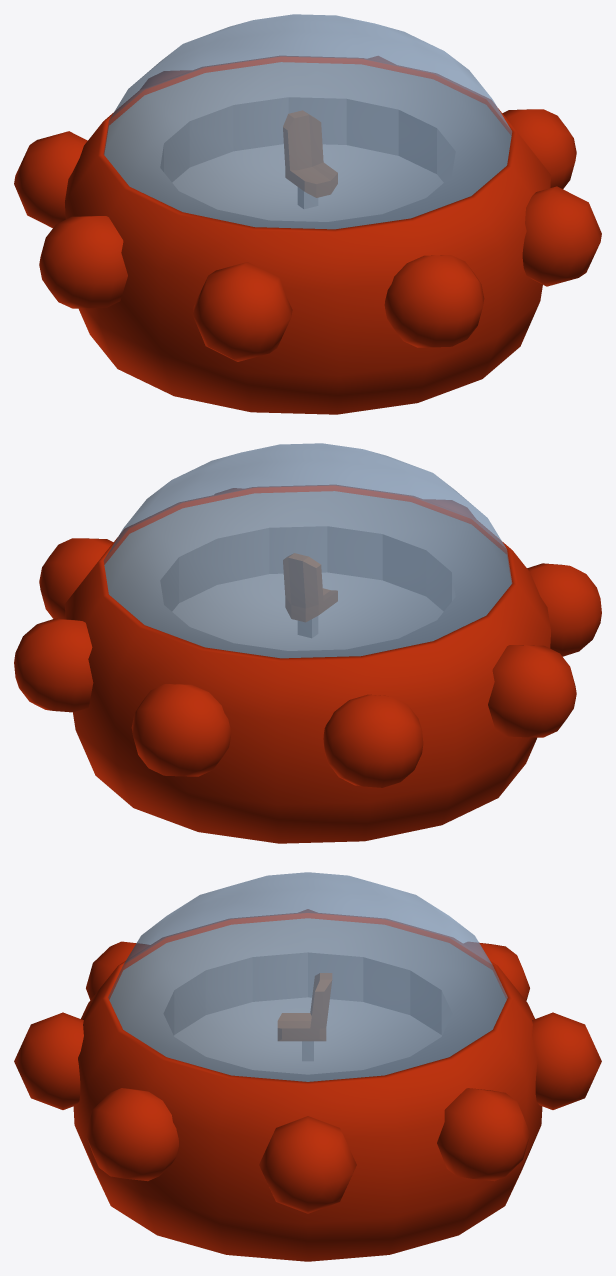
The model's file is OctoDefender.fbx.
3 renders of one model, top to bottom at view 1: azimuth 30°, elevation 25°; view 2: azimuth 150°, elevation 25°; view 3: azimuth 270°, elevation 25°, orthographic. The views are drawn at different scales.
Parts seen in each view (by area): view 1: oCTOdEFENDER, Circle.001, Sphere.002, Sphere.007, Sphere, Sphere.005, Sphere.006, Cube, Sphere.003; view 2: oCTOdEFENDER, Circle.001, Sphere.006, Sphere.001, Sphere, Sphere.004, Sphere.007, Sphere.003, Cube; view 3: oCTOdEFENDER, Circle.001, Sphere.003, Sphere.005, Sphere.004, Sphere.002, Sphere.001, Cube, Sphere.007, Sphere.006.
Part boxes in pixels (box(x1,y1,x2,y2)): oCTOdEFENDER: box(65, 56, 550, 414); Circle.001: box(104, 14, 511, 229); Sphere.002: box(384, 255, 484, 347); Sphere.007: box(192, 262, 292, 361); Sphere: box(39, 216, 127, 308); Sphere.005: box(522, 186, 601, 286); Sphere.006: box(14, 131, 87, 228); Cube: box(283, 110, 337, 209); Sphere.003: box(502, 109, 576, 188); oCTOdEFENDER: box(65, 485, 550, 843); Circle.001: box(104, 443, 511, 658); Sphere.006: box(323, 694, 423, 787); Sphere.001: box(131, 684, 231, 776); Sphere: box(488, 645, 576, 737); Sphere.004: box(14, 618, 93, 712); Sphere.007: box(527, 563, 601, 656); Sphere.003: box(39, 538, 113, 619); Cube: box(283, 553, 337, 638); oCTOdEFENDER: box(73, 912, 542, 1261); Circle.001: box(108, 872, 507, 1081); Sphere.003: box(259, 1116, 356, 1213); Sphere.005: box(86, 1088, 178, 1181); Sphere.004: box(437, 1088, 530, 1181); Sphere.002: box(14, 1012, 83, 1109); Sphere.001: box(532, 1012, 601, 1109); Cube: box(277, 973, 332, 1061); Sphere.007: box(86, 941, 149, 999); Sphere.006: box(464, 942, 529, 1000).
Size of the model in its own units: 360 by 204 by 360.
